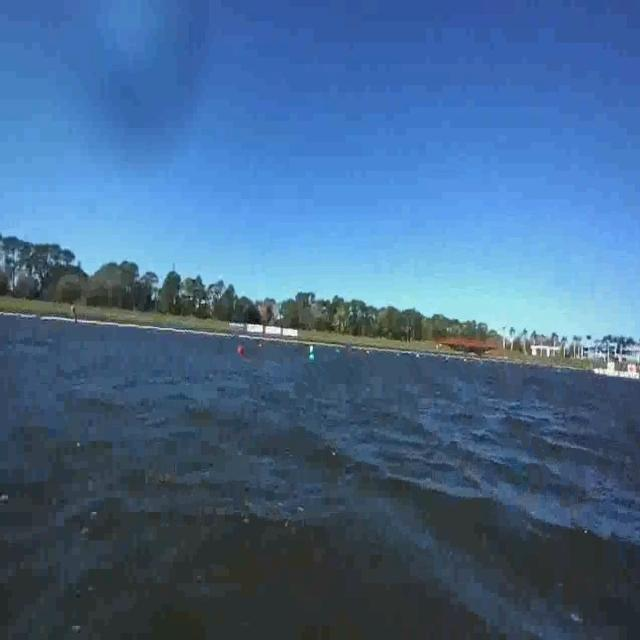red-buoy: (237, 342, 246, 362)
